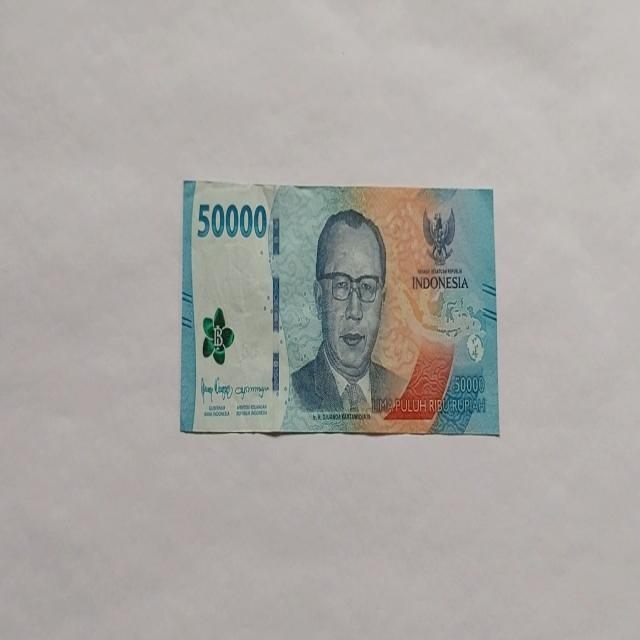lima puluh ribu rupiah: (179, 178, 499, 438), (280, 207, 410, 431)
